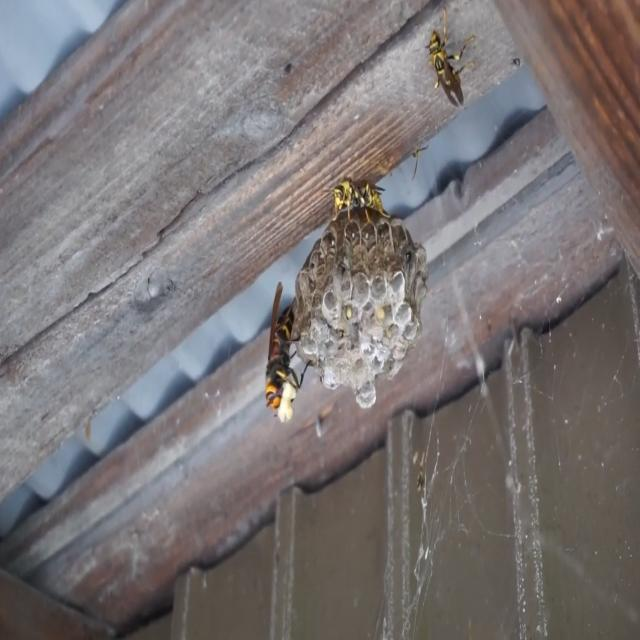Wasp: (260, 290, 305, 424)
